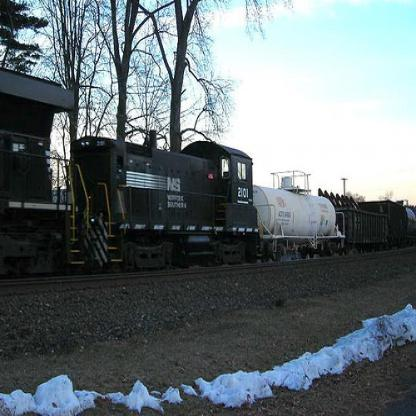train: (0, 130, 415, 276)
